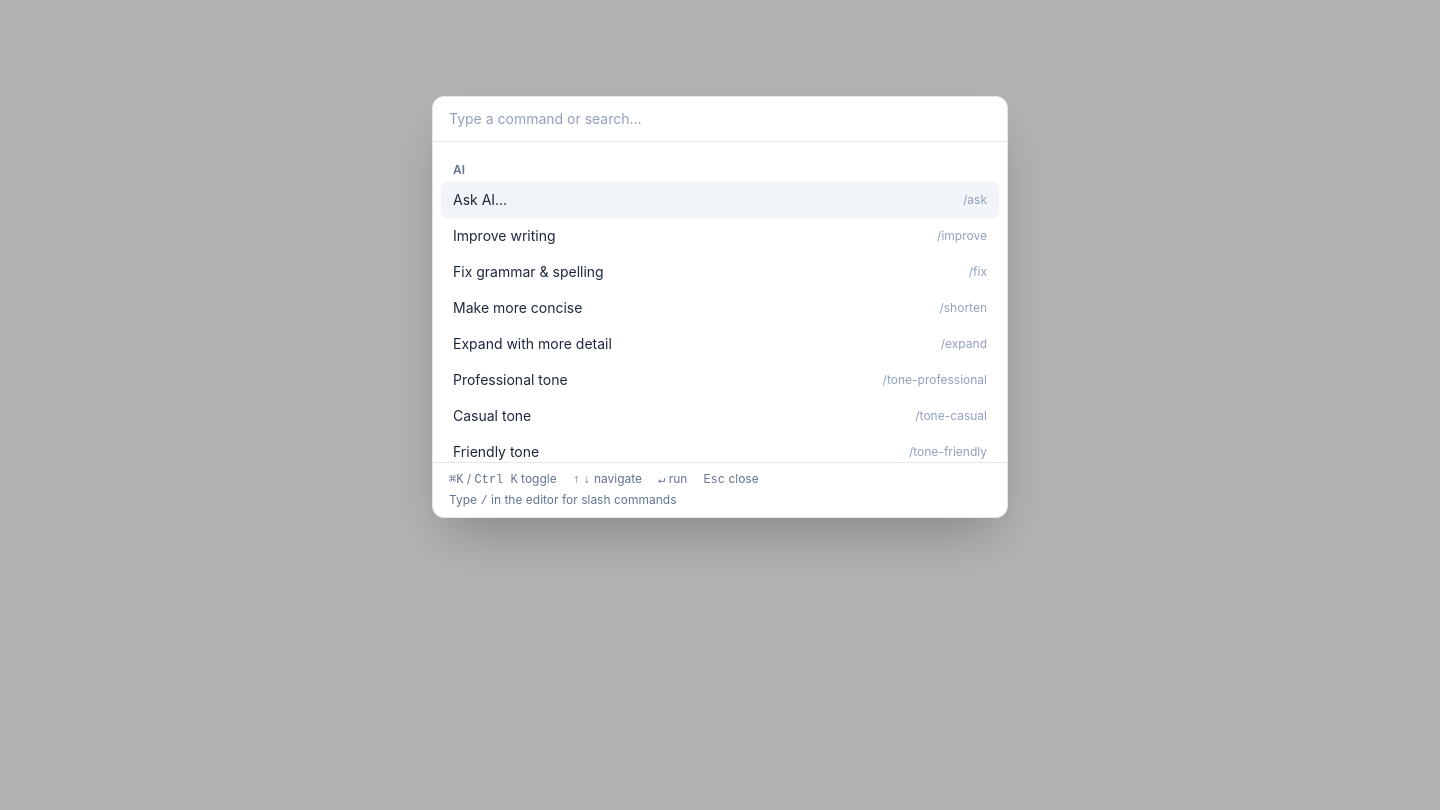
CommandPalette › matches whole words, not scattered letters
The width and height of the screenshot is (1440, 810).
Fuzzy matching would also accept "Expand with more detail" (e-x-p…o-r…t).
In the dropdown with placeholder "Type a command or search…": (720,120) [433, 97, 1007, 142], type "export"
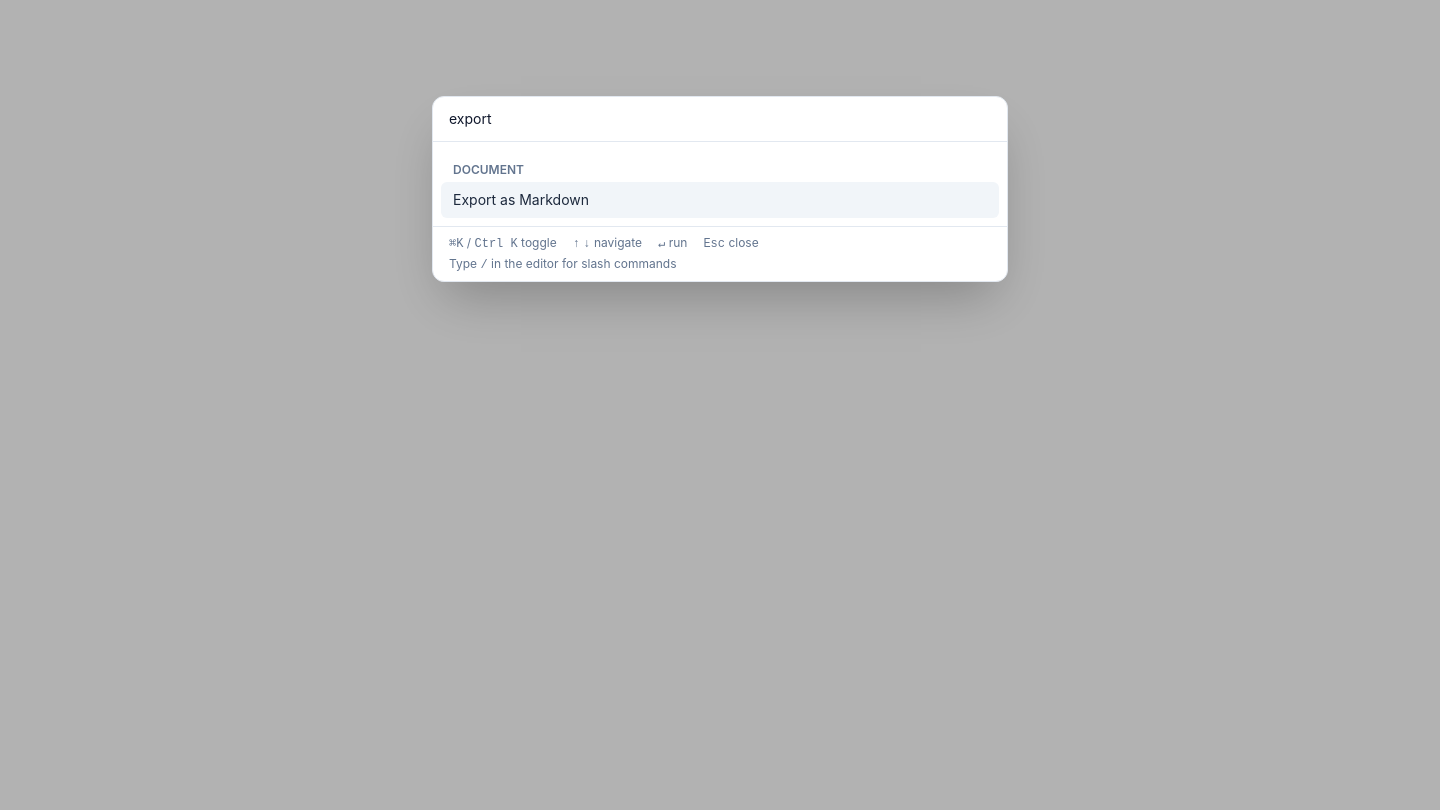
expect the option "Export as Markdown" is shown: met, box [441, 182, 999, 218]
expect the option "Expand" is gone: met
